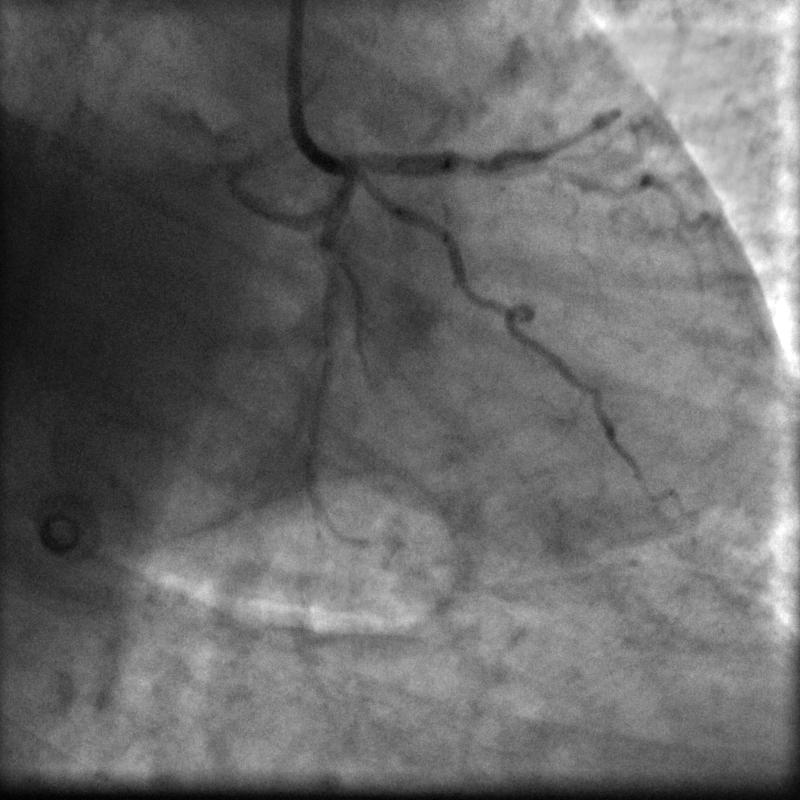Stenosis: (450, 148, 501, 187)
